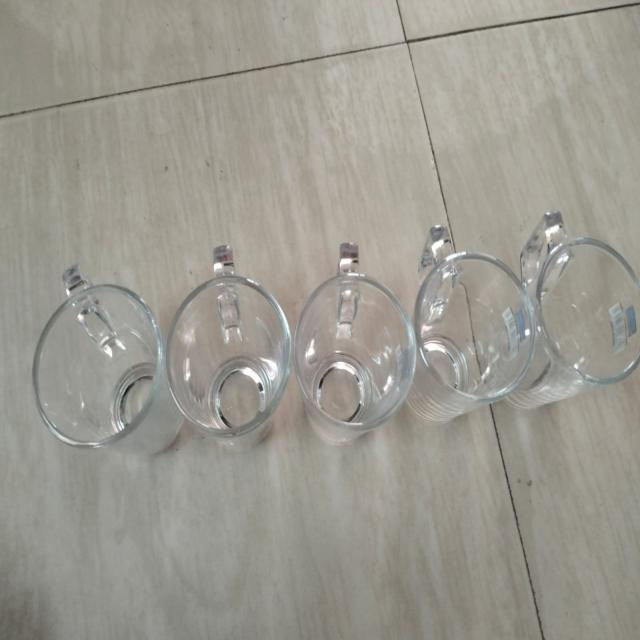glass-VX4N: (31, 243, 164, 485), (168, 235, 291, 454), (414, 225, 538, 436), (296, 242, 420, 436), (526, 205, 640, 416)
